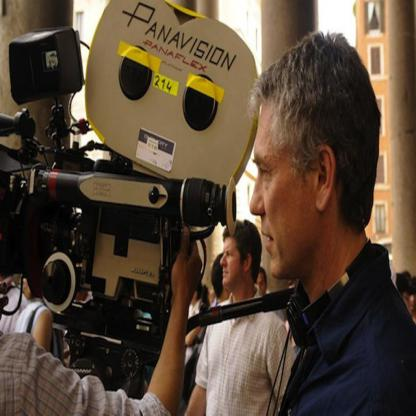face: (250, 100, 336, 281), (221, 239, 247, 288), (404, 283, 416, 311), (254, 274, 266, 300)
